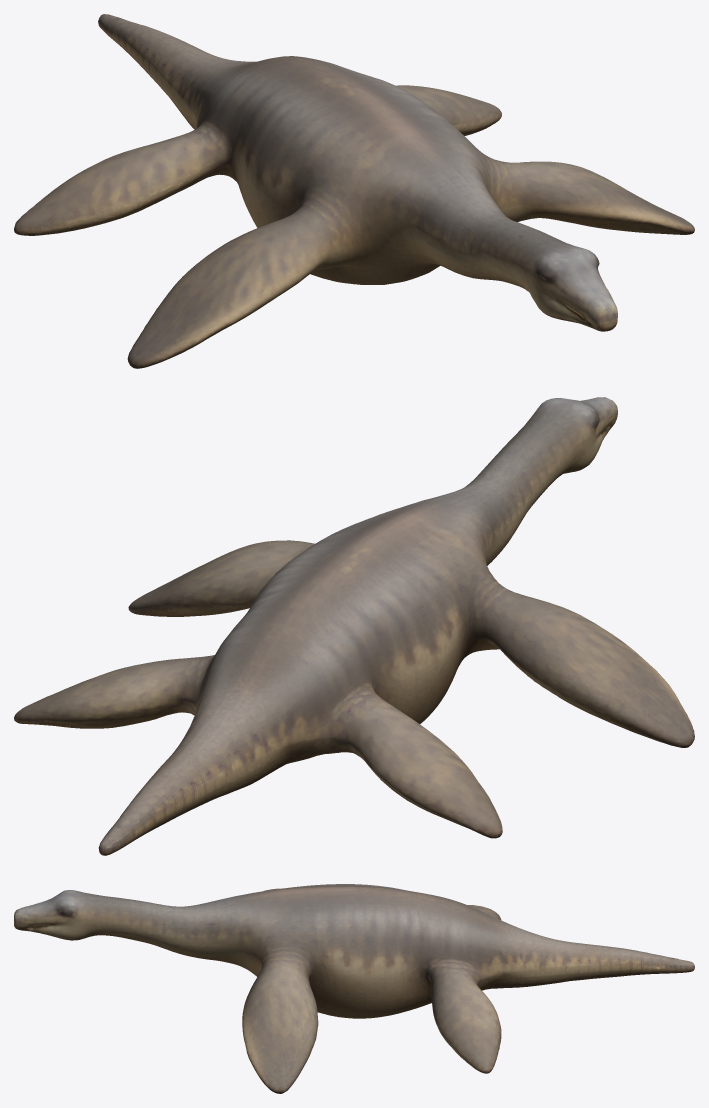
The picture shows the model from 3 angles, top to bottom: view 1: azimuth 30°, elevation 25°; view 2: azimuth 150°, elevation 25°; view 3: azimuth 270°, elevation 25°; orthographic projection. The views are drawn at different scales.
Visible parts, largest first — view 1: world; view 2: world; view 3: world.
Boxes of the visible parts, <box> form: world: <box>14,14,694,368</box>; world: <box>14,397,694,855</box>; world: <box>14,884,694,1093</box>.
Size of the model in its own units: 3.51 by 1.06 by 5.5.
1 material, 1 textured.
